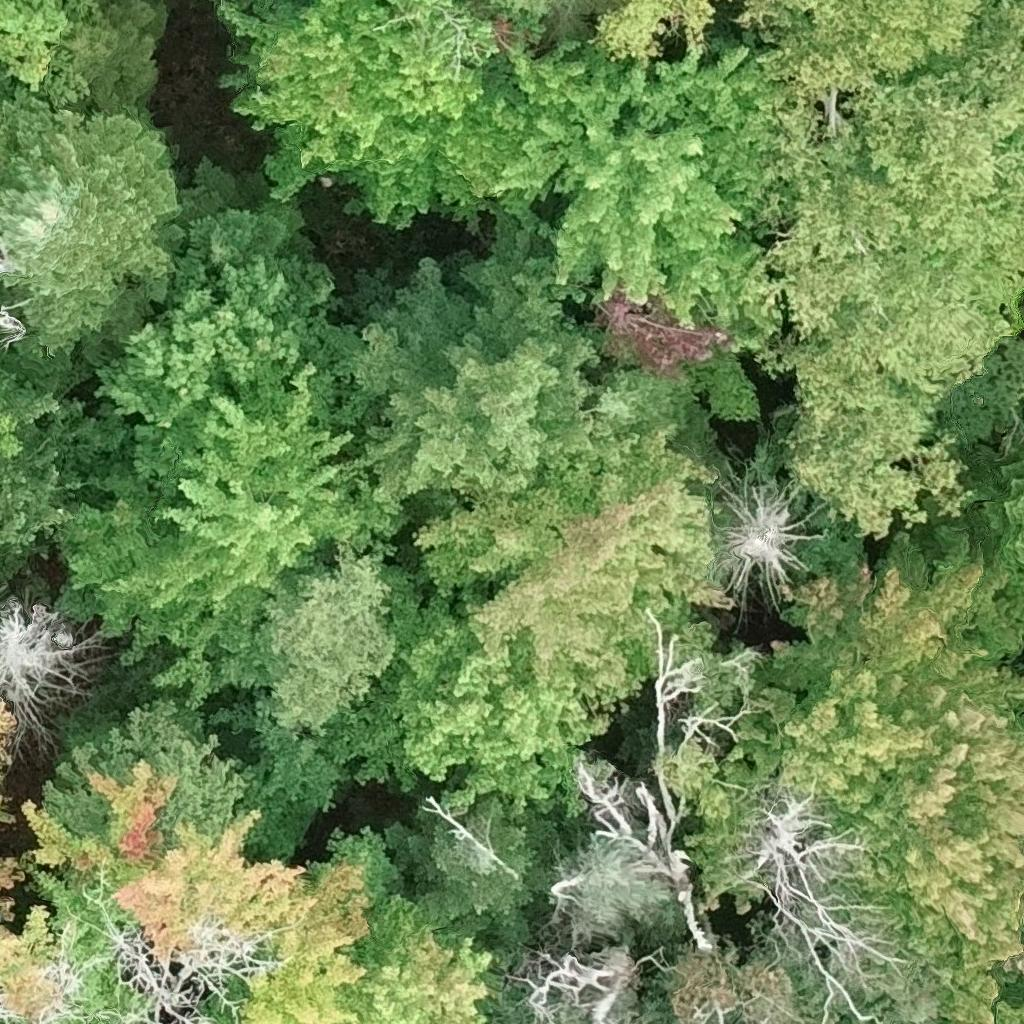crown: (724, 524, 1023, 1023), (51, 354, 418, 710), (484, 36, 790, 418), (754, 106, 1023, 539), (415, 353, 734, 697), (328, 200, 649, 520), (0, 758, 316, 1023), (222, 0, 546, 228), (329, 568, 615, 817), (91, 253, 353, 481), (217, 541, 399, 867), (849, 0, 1023, 326), (722, 776, 945, 1023), (227, 823, 397, 1023), (44, 698, 254, 848), (752, 0, 987, 129), (158, 159, 329, 313), (388, 798, 557, 940), (343, 901, 487, 1023), (543, 824, 688, 941), (0, 595, 109, 736), (505, 942, 658, 1023), (671, 927, 798, 1023), (0, 0, 107, 108), (716, 474, 809, 597), (607, 0, 716, 55), (984, 445, 1023, 596), (990, 950, 1023, 1023), (0, 371, 24, 457), (191, 984, 241, 1023), (0, 856, 24, 925), (492, 0, 550, 24), (0, 237, 21, 281), (0, 311, 28, 343), (0, 740, 11, 819), (736, 0, 771, 22)
